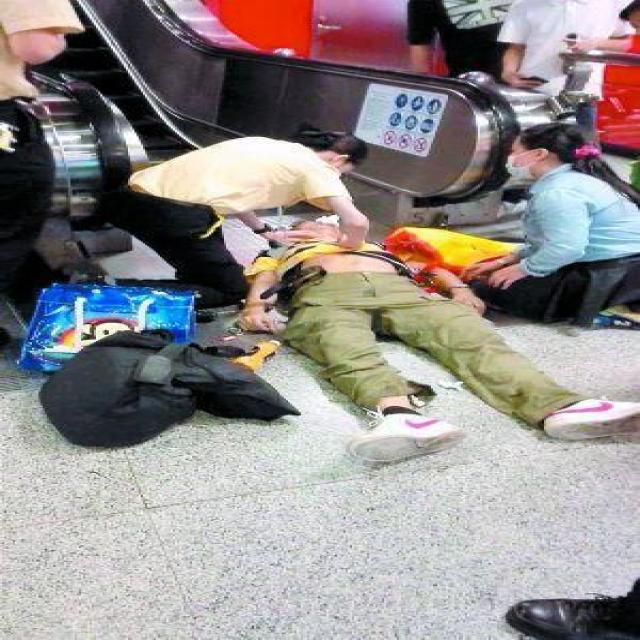fall: (216, 191, 632, 465)
